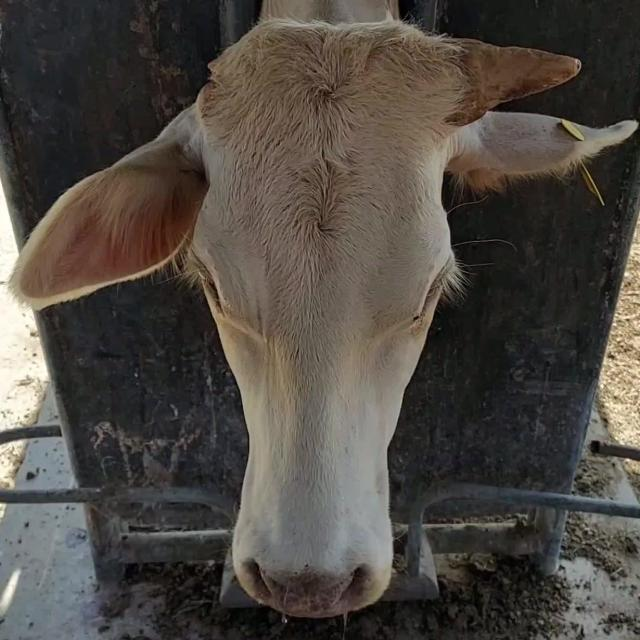cowFace: (203, 21, 452, 616)
